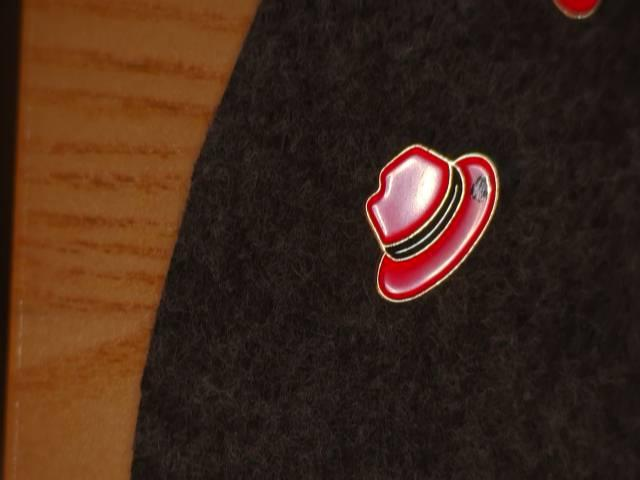Red-Hat: (344, 135, 535, 319)
Scratch: (462, 167, 509, 210)
